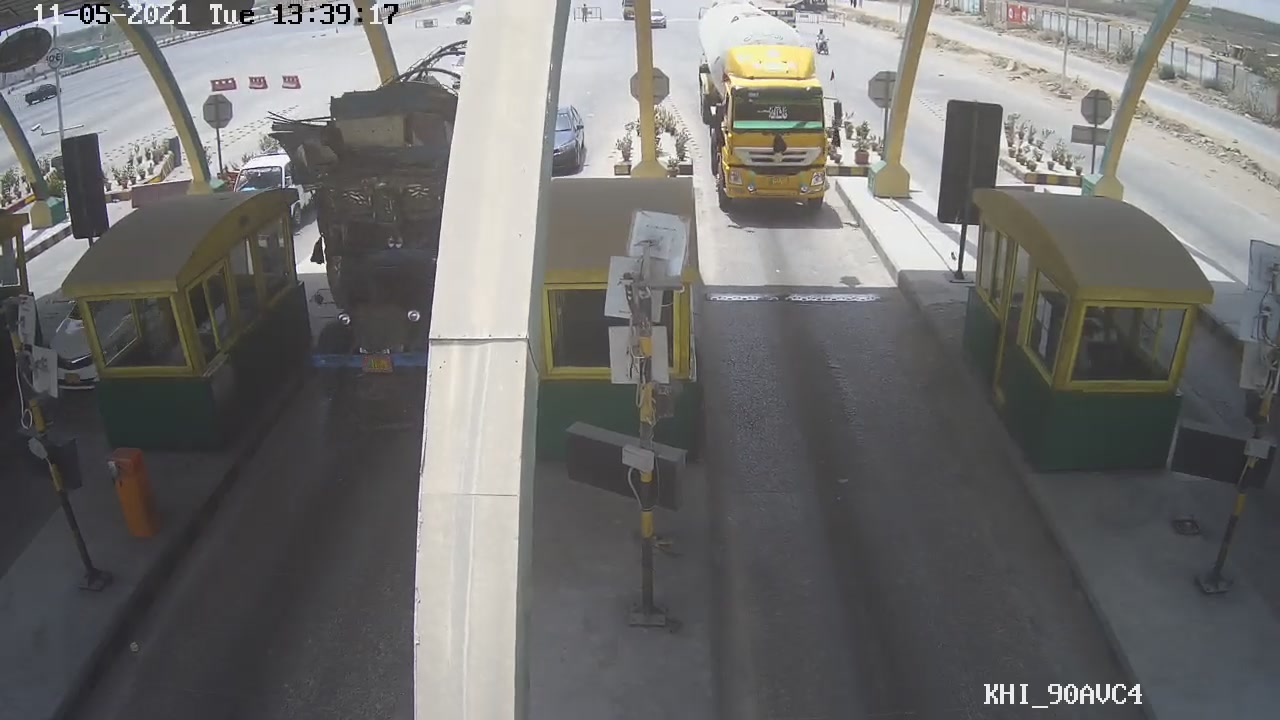F6: (695, 33, 845, 205)
